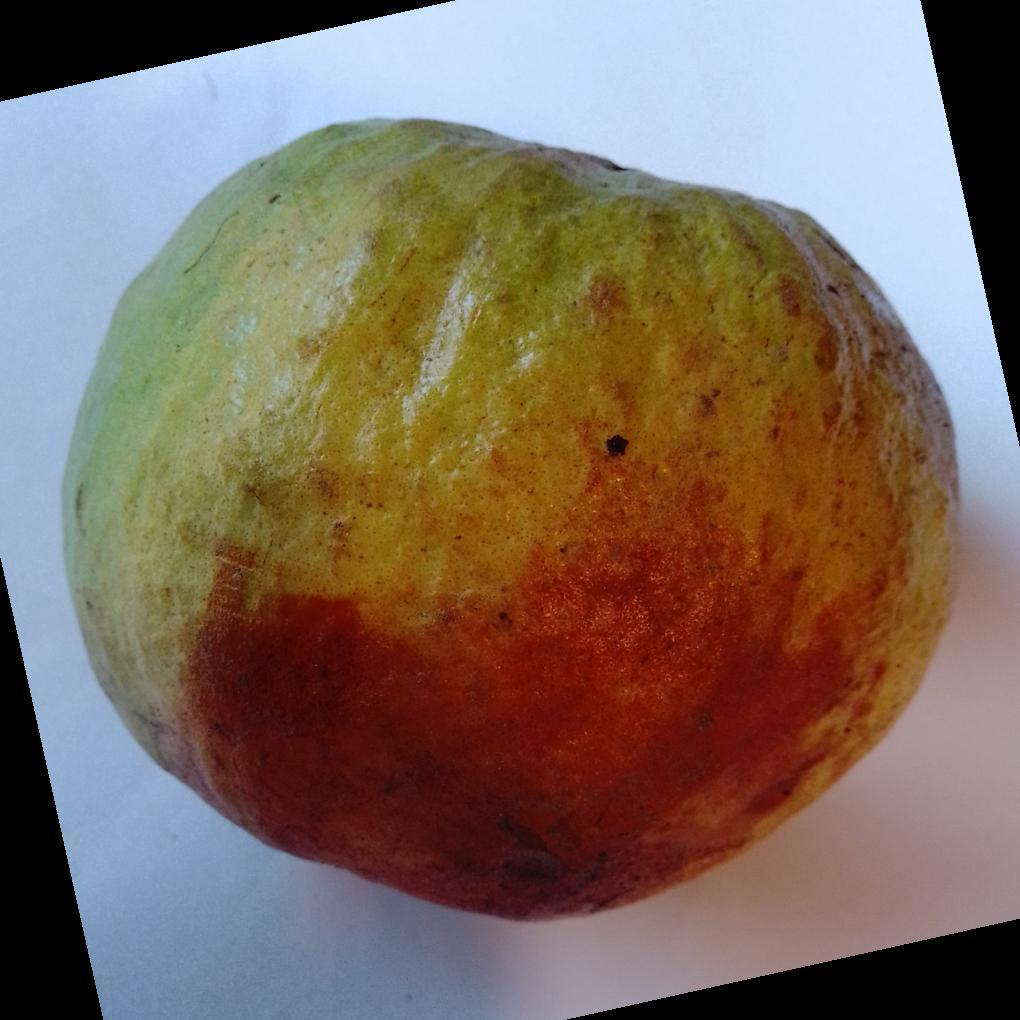FreshOrange: (59, 119, 961, 927)
